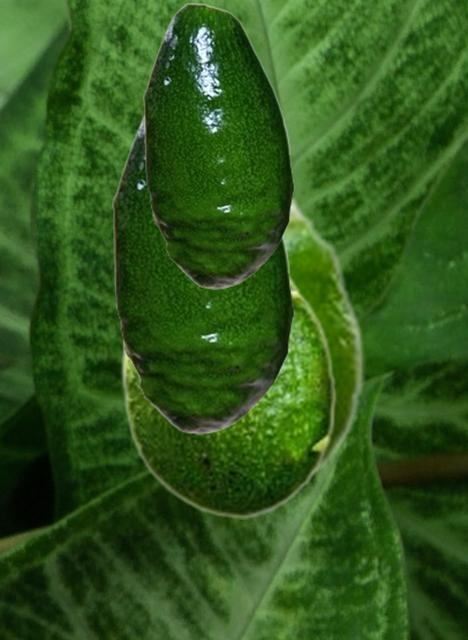avocado: (112, 111, 293, 433), (119, 270, 336, 518), (143, 2, 293, 288), (285, 196, 364, 500)
